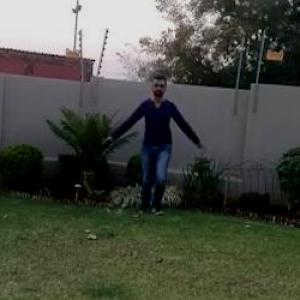land: (97, 72, 218, 230)
